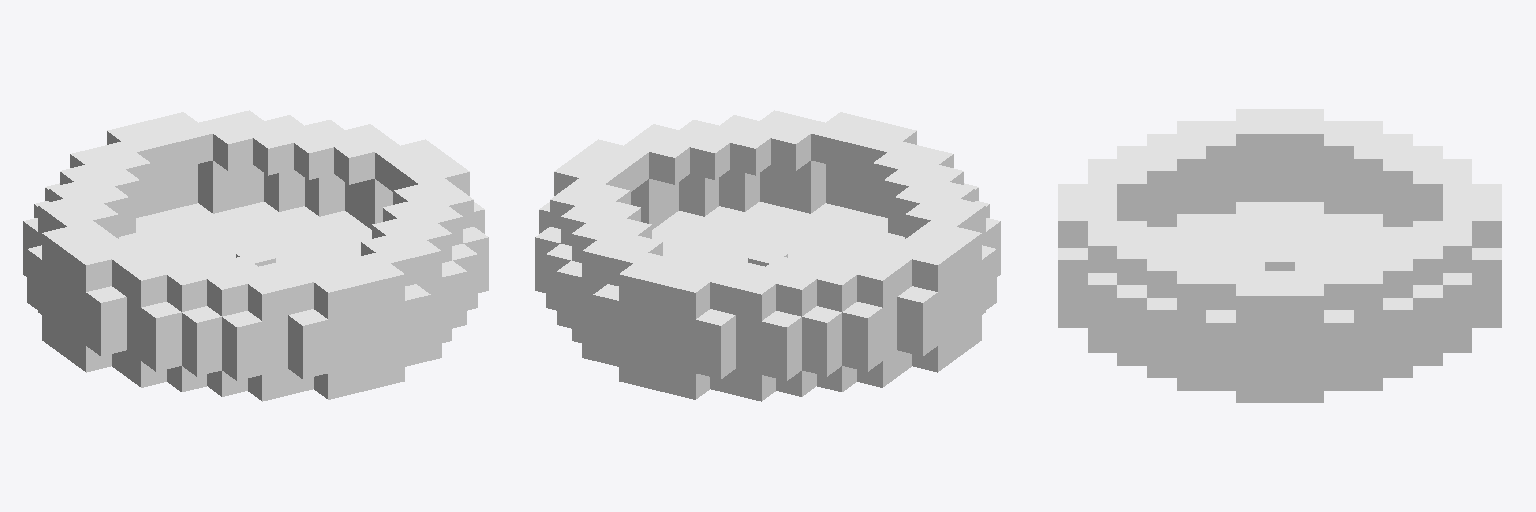
File: kompas2-2.obj
3 renders of one model, left to right at view 1: azimuth 30°, elevation 25°; view 2: azimuth 150°, elevation 25°; view 3: azimuth 270°, elevation 25°, orthographic.
Parts seen in each view (by area): view 1: object 1; view 2: object 1; view 3: object 1.
Boxes of the visible parts, <box> form: object 1: <box>23,110,488,401</box>; object 1: <box>535,110,1000,401</box>; object 1: <box>1058,109,1501,402</box>.
Bounding box in the file's own units: 1.5 × 0.4 × 1.5.